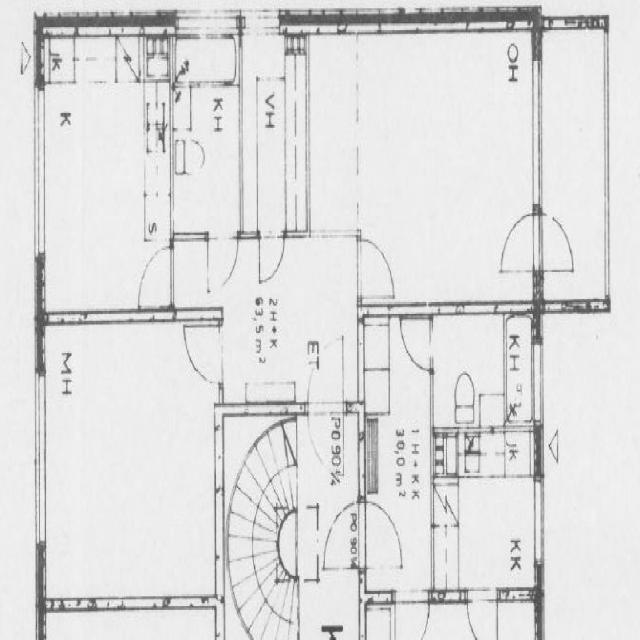door: (356, 233, 398, 310), (364, 496, 404, 575), (497, 206, 538, 281), (181, 317, 224, 388), (322, 499, 362, 572), (136, 242, 175, 313), (537, 210, 577, 279), (397, 310, 434, 374), (205, 231, 240, 293), (256, 228, 286, 288), (466, 589, 497, 640)
window: (30, 366, 51, 550), (29, 82, 49, 260), (527, 52, 548, 212), (44, 303, 154, 331), (531, 476, 547, 570), (530, 334, 546, 428), (243, 8, 282, 34)
zone: (355, 21, 532, 308), (45, 319, 216, 614), (37, 32, 169, 321), (219, 237, 355, 410), (538, 21, 609, 304), (171, 35, 242, 242), (439, 474, 541, 595), (432, 311, 508, 433), (222, 415, 297, 519), (228, 542, 294, 637), (505, 312, 534, 429), (363, 495, 405, 573), (504, 428, 534, 477), (478, 431, 506, 478)
